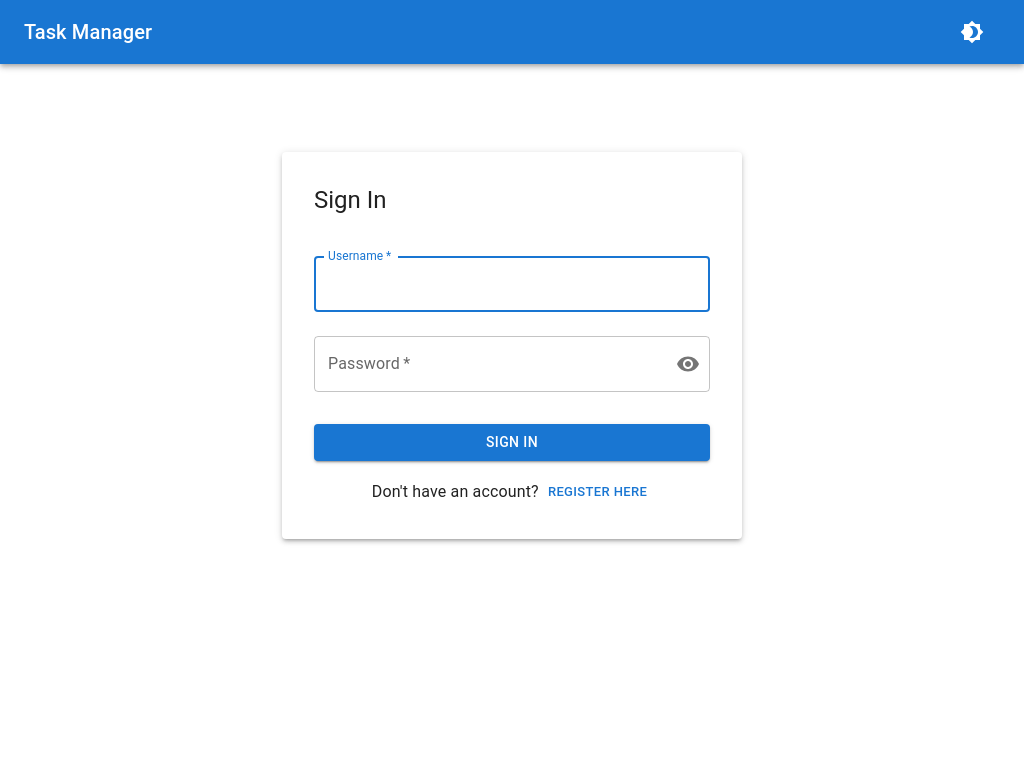
Test case: Login Page › shows error message with invalid credentials
The width and height of the screenshot is (1024, 768).
Type "wronguser" into the field named "username" at (512, 284), box [314,256,710,312]
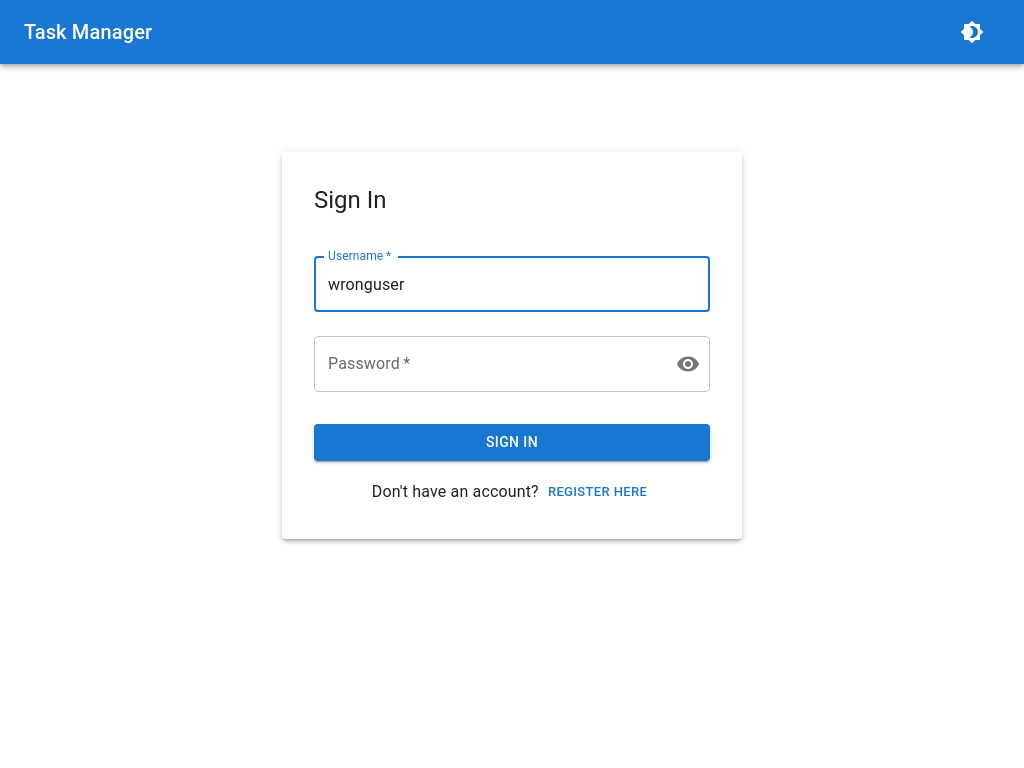
Type "wrongpass" into the password field named "password" at (487, 364), box [314,336,660,392]
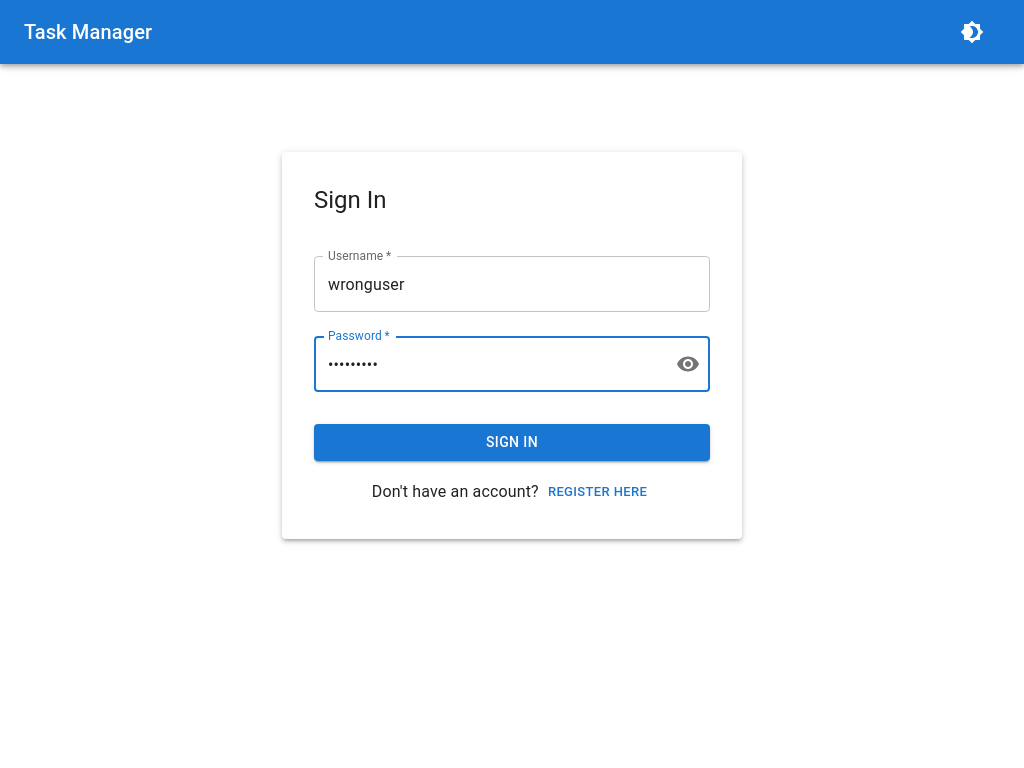
Click the submit button at (512, 443), box [314,424,710,461]
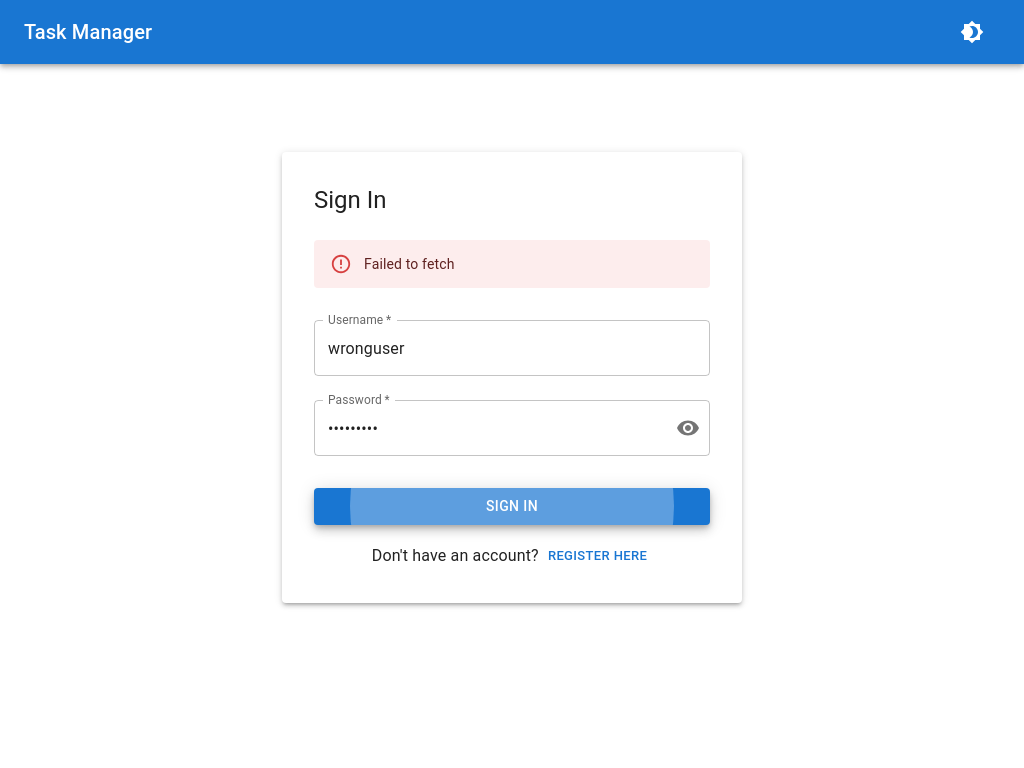
Check: the message "Failed to fetch" is shown, box [314,240,710,288]
